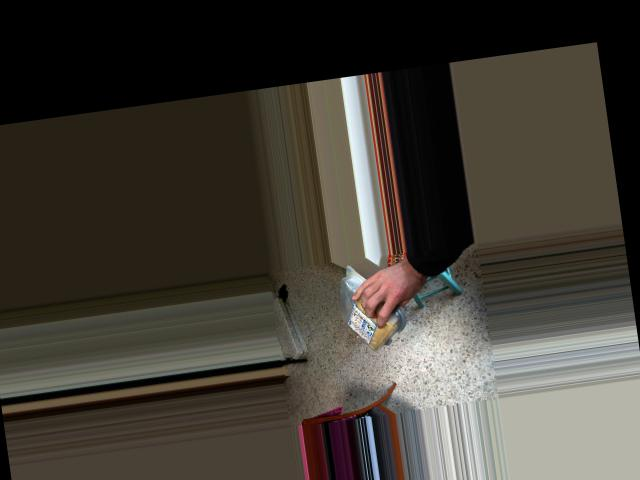cheese: (339, 260, 394, 364)
